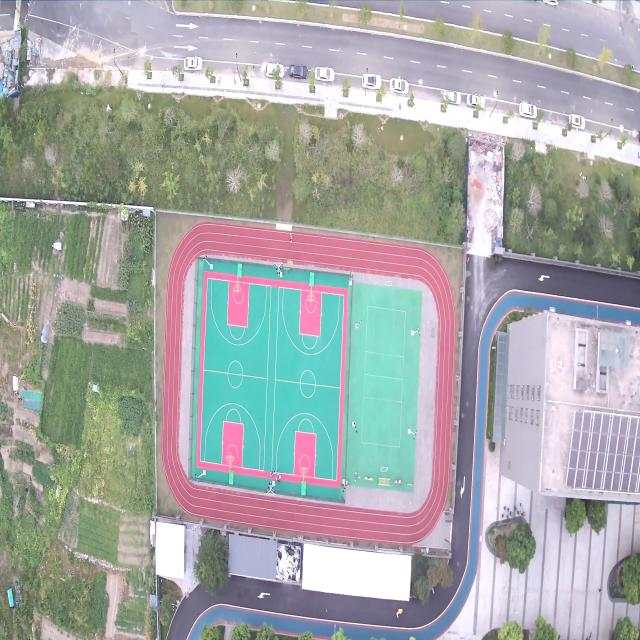UAV: (127, 439, 135, 454)
